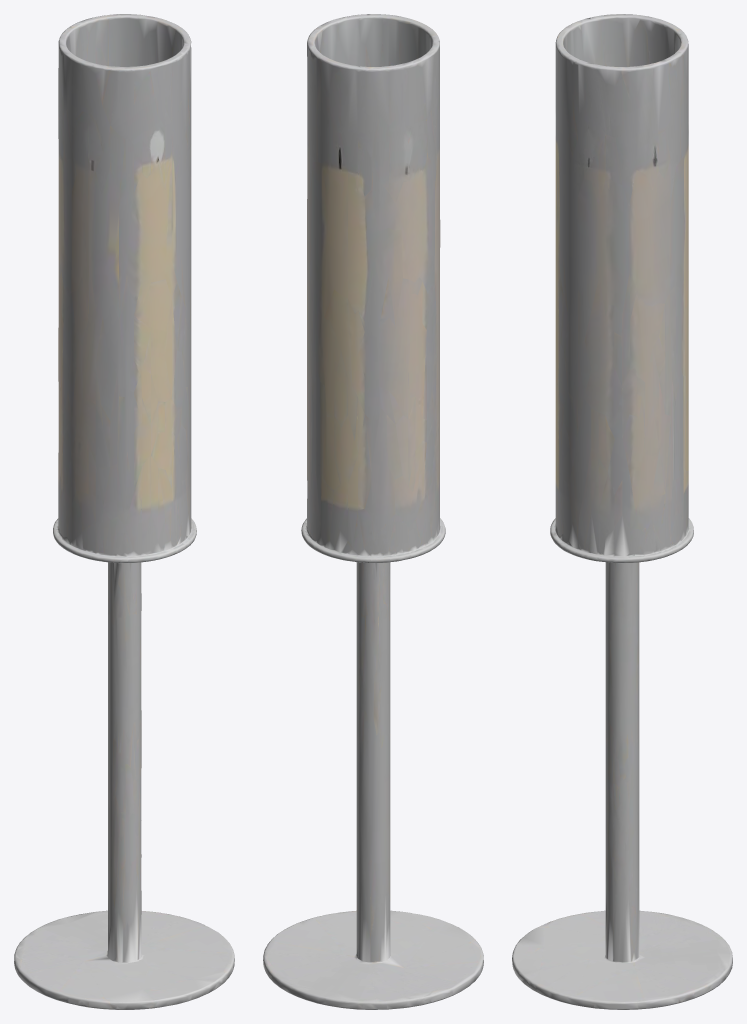
Rendered from kerzenstaender-01.glb.
3 renders of one model, left to right at view 1: azimuth 30°, elevation 25°; view 2: azimuth 150°, elevation 25°; view 3: azimuth 270°, elevation 25°, orthographic.
Bounding box in the file's own units: 0.4133 × 1.9 × 0.413.
Materials: 1 (1 with a texture image).
